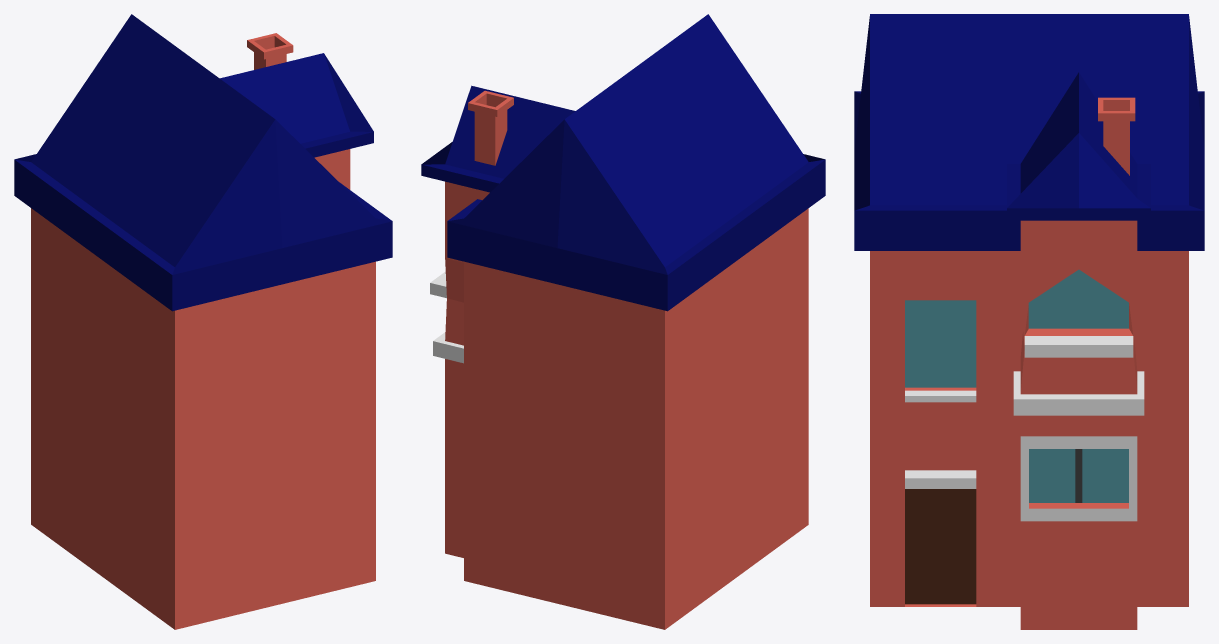
File: House_1.glb
The picture shows the model from 3 angles, left to right: view 1: azimuth 30°, elevation 25°; view 2: azimuth 150°, elevation 25°; view 3: azimuth 270°, elevation 25°; orthographic projection. The views are drawn at different scales.
Visible parts, largest first — view 1: House1; view 2: House1; view 3: House1.
Part boxes in pixels (left/top/right/bottom): House1: left=14, top=14, right=392, bottom=629; House1: left=421, top=14, right=825, bottom=629; House1: left=854, top=14, right=1204, bottom=629.
Bounding box in the file's own units: 3.54 × 6.08 × 3.58.
